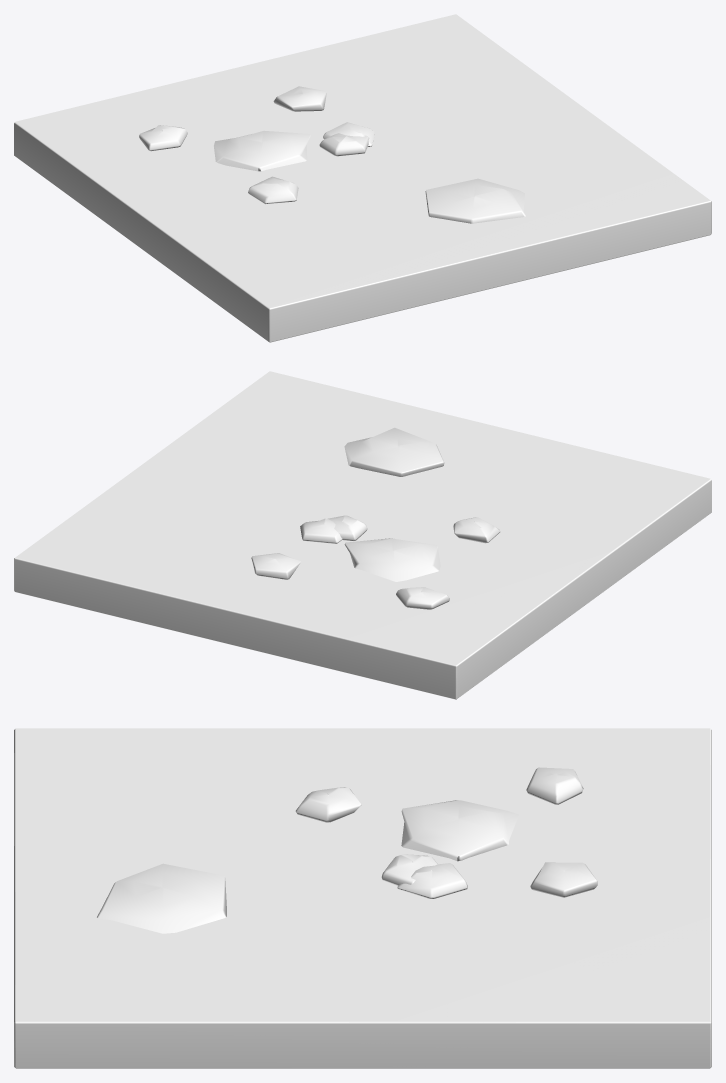
The model's file is floor.glb.
The picture shows the model from 3 angles, top to bottom: view 1: azimuth 30°, elevation 25°; view 2: azimuth 150°, elevation 25°; view 3: azimuth 270°, elevation 25°; orthographic projection. The views are drawn at different scales.
Parts seen in each view (by area): view 1: Floor; view 2: Floor; view 3: Floor.
Part boxes in pixels (x1=…): Floor: x1=14, y1=14, x2=711, y2=342; Floor: x1=14, y1=371, x2=711, y2=699; Floor: x1=14, y1=728, x2=711, y2=1068.
Bounding box in the file's own units: 4 × 0.3989 × 4.
Materials: 1 (1 with a texture image).
